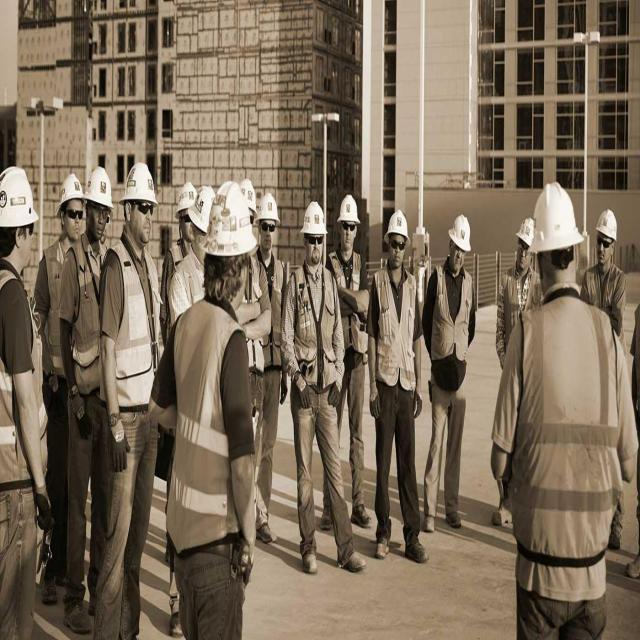Reflective-Jacket: (507, 297, 623, 573), (164, 301, 253, 556), (103, 237, 162, 404), (426, 262, 475, 395), (372, 264, 421, 390)
Safety-Helmet: (202, 176, 258, 260), (530, 179, 584, 254), (0, 158, 39, 230), (120, 156, 160, 208), (85, 160, 117, 213), (55, 166, 85, 214), (300, 195, 329, 242), (448, 208, 474, 254), (174, 173, 200, 218), (384, 205, 412, 246), (257, 184, 281, 230), (337, 189, 362, 229), (595, 205, 619, 246), (516, 211, 536, 251)
